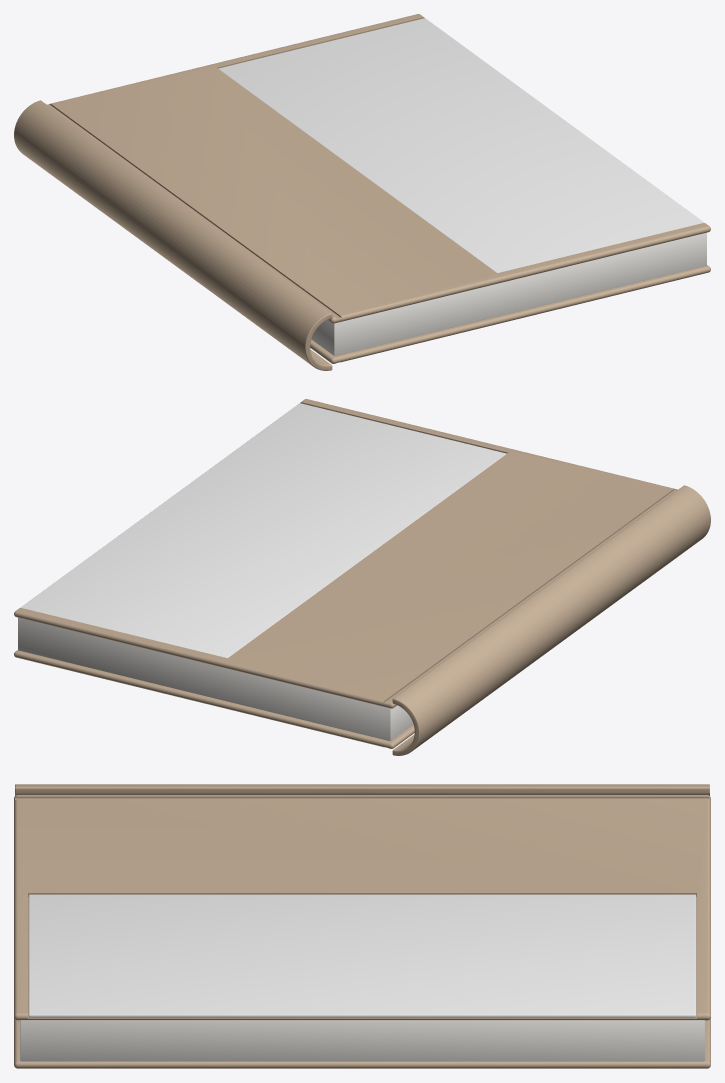
File: photo-side--portrait.glb
3 renders of one model, top to bottom at view 1: azimuth 30°, elevation 25°; view 2: azimuth 150°, elevation 25°; view 3: azimuth 270°, elevation 25°, orthographic. The views are drawn at different scales.
Parts seen in each view (by area): view 1: Photo, CoverFront, Spine, Pages, CoverBack; view 2: Photo, CoverFront, Spine, Pages, CoverBack; view 3: Photo, CoverFront, Pages, Spine, CoverBack.
Part boxes in pixels (x1,y1,x2,y2): Photo: [218, 18, 704, 272]; CoverFront: [47, 14, 710, 323]; Spine: [14, 100, 332, 370]; Pages: [311, 232, 706, 356]; CoverBack: [310, 265, 710, 363]; Photo: [20, 403, 506, 657]; CoverFront: [14, 399, 677, 708]; Spine: [392, 485, 710, 755]; Pages: [18, 617, 413, 741]; CoverBack: [14, 650, 414, 748]; Photo: [28, 894, 696, 1017]; CoverFront: [14, 795, 710, 1020]; Pages: [20, 1020, 704, 1061]; Spine: [15, 784, 709, 795]; CoverBack: [14, 1018, 710, 1068].
Size of the model in its own units: 0.3208 by 0.043 by 0.4.
